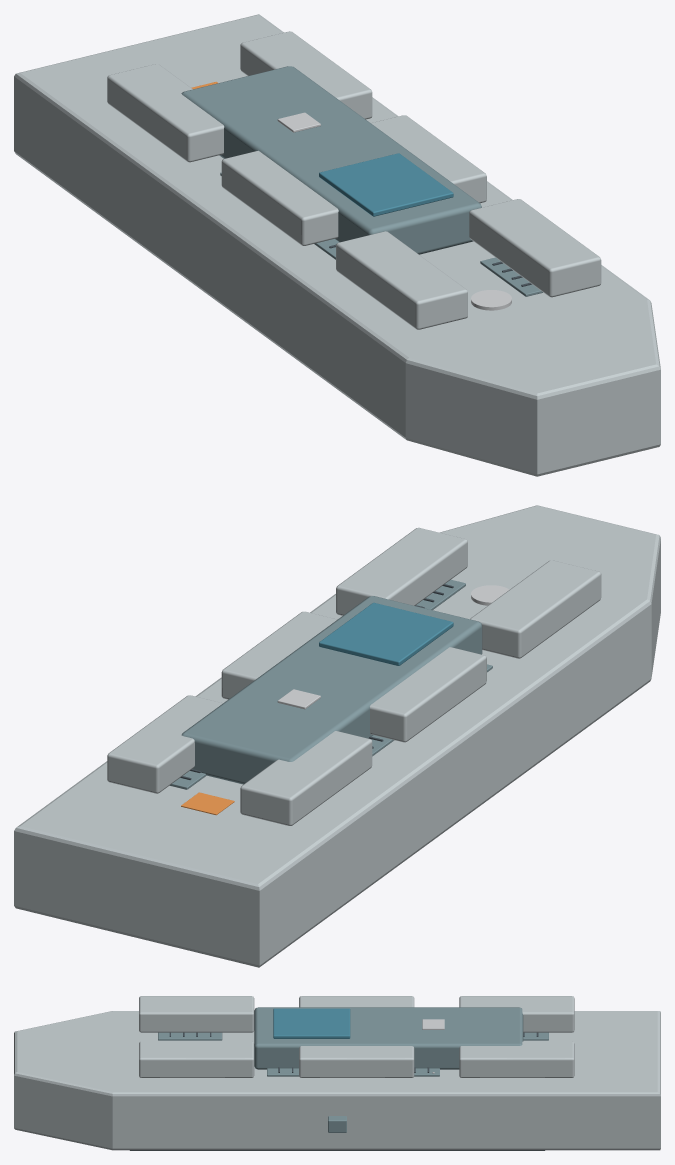
3 renders of one model, top to bottom at view 1: azimuth 30°, elevation 25°; view 2: azimuth 150°, elevation 25°; view 3: azimuth 270°, elevation 25°, orthographic. The views are drawn at different scales.
Visible parts, largest first — view 1: freighter-core; view 2: freighter-core; view 3: freighter-core.
Boxes of the visible parts, box(x1,y1,x2,y2) form: freighter-core: box(14, 14, 660, 476); freighter-core: box(14, 505, 660, 967); freighter-core: box(14, 996, 660, 1150).
Bounding box in the file's own units: 6.52 × 3.52 × 20.2.
